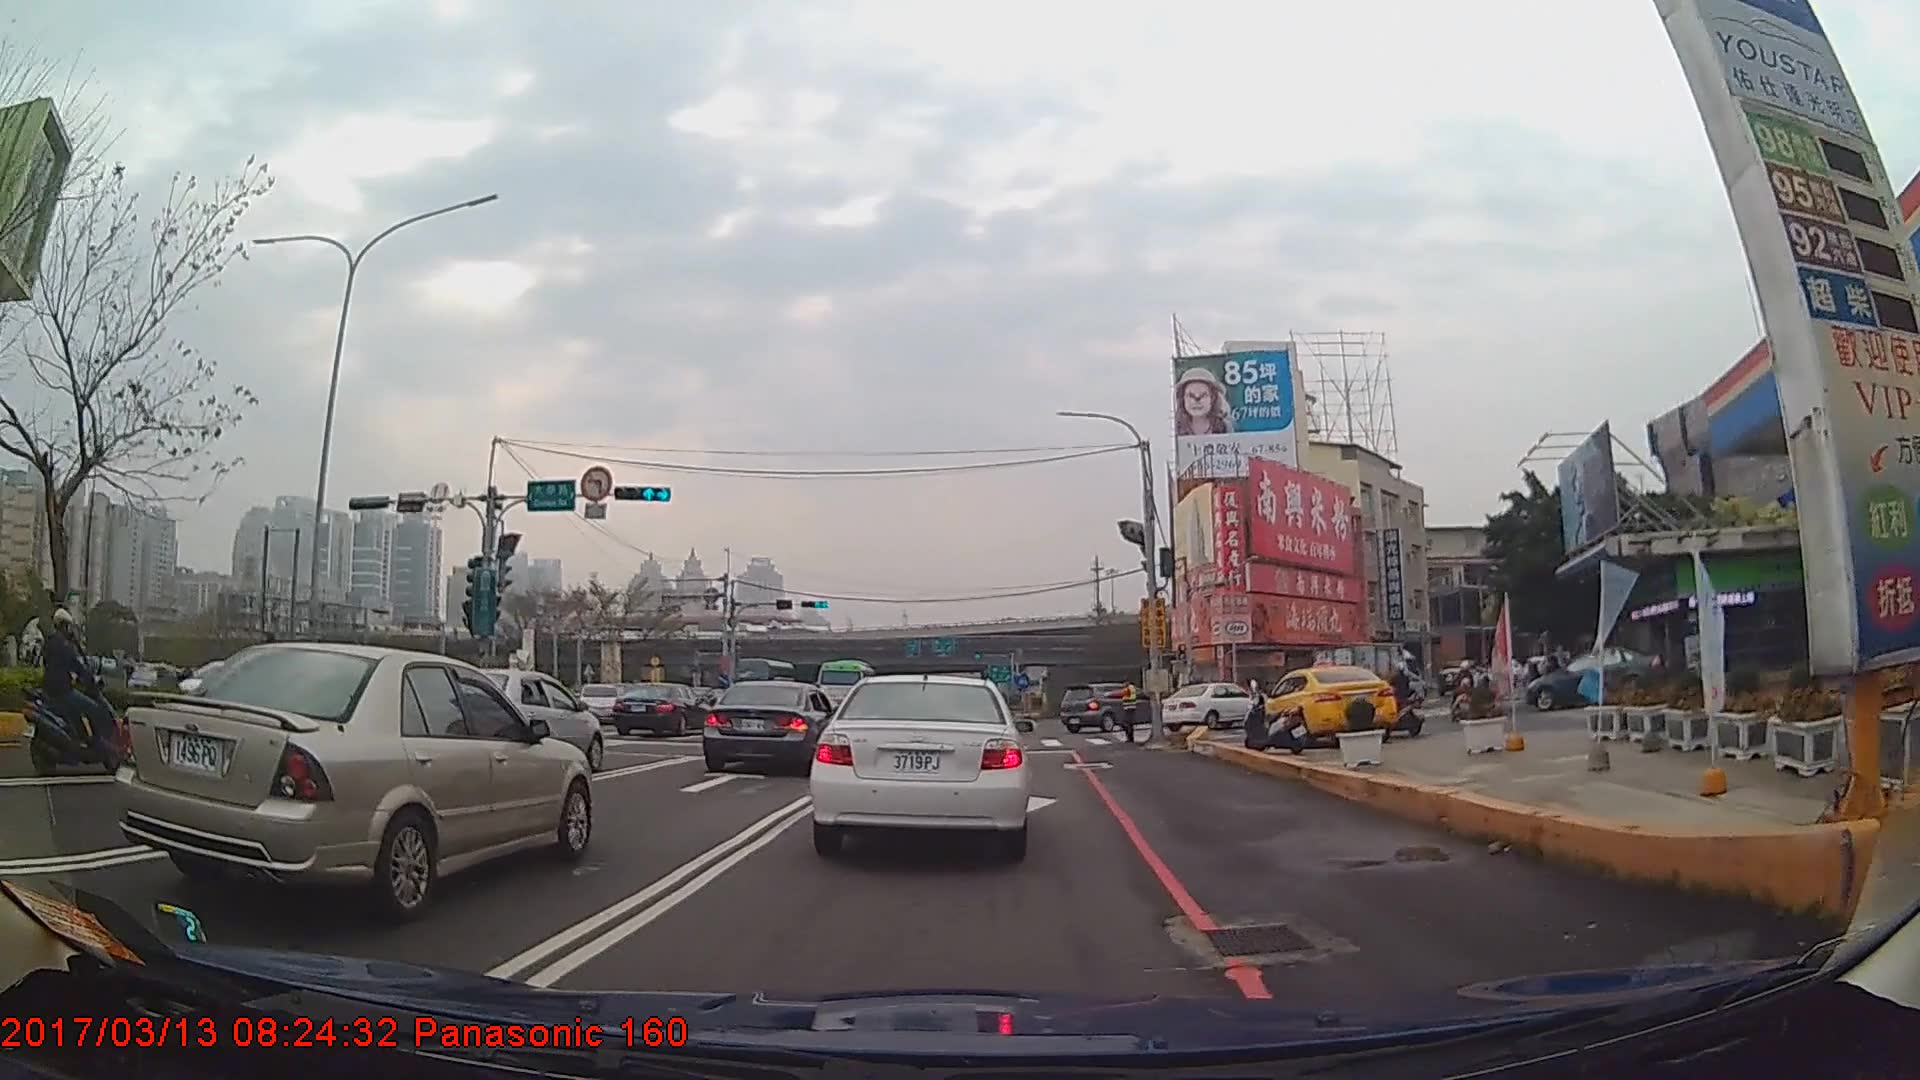pedestrian: (1105, 676, 1139, 745)
rider: (24, 612, 121, 779), (1382, 663, 1424, 739), (1451, 658, 1476, 721)
vehicle: (117, 641, 596, 917), (808, 666, 1030, 860), (422, 667, 605, 775), (698, 678, 839, 776), (1256, 662, 1399, 747), (1522, 647, 1664, 712), (1306, 641, 1423, 711), (1057, 681, 1166, 731), (1154, 680, 1265, 729), (611, 680, 706, 734), (812, 658, 876, 715)
